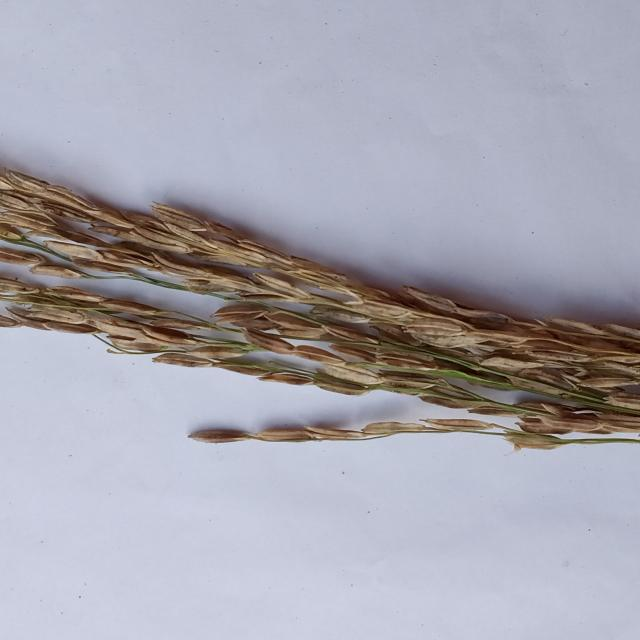Neck_Blast: (9, 169, 640, 428)
